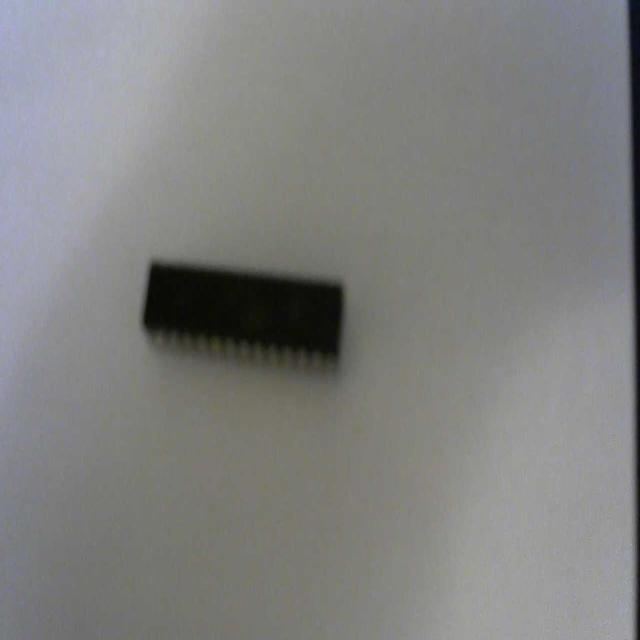atmega: (139, 253, 347, 379)
